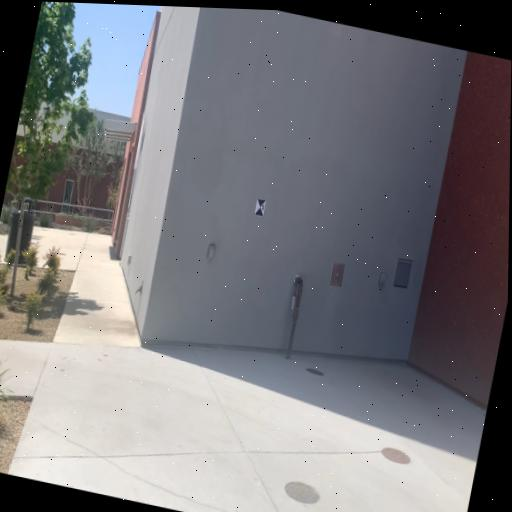target5: (254, 199, 266, 216)
